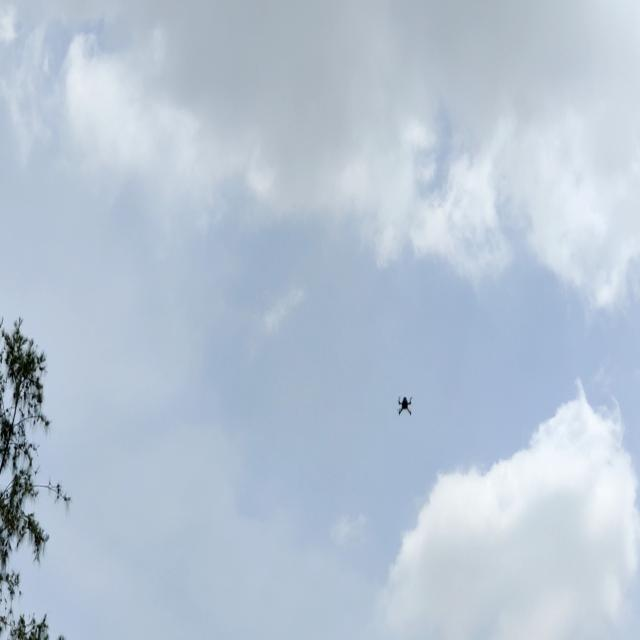drone: (393, 388, 416, 419)
